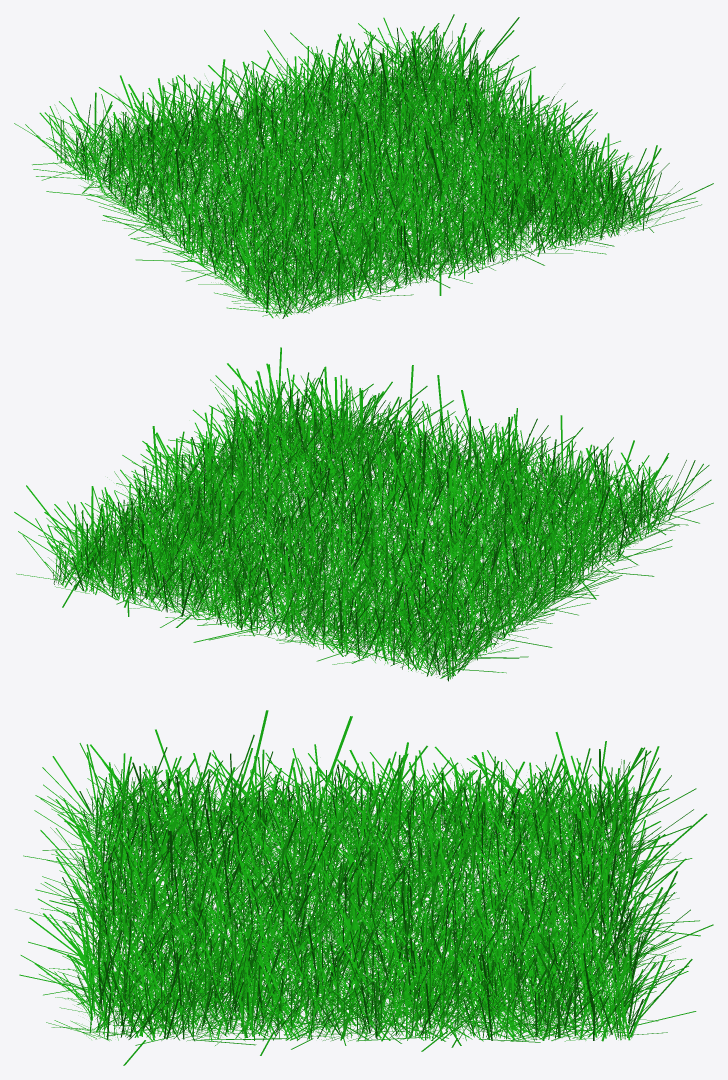
Rendered from 草big.fbx.
The picture shows the model from 3 angles, top to bottom: view 1: azimuth 30°, elevation 25°; view 2: azimuth 150°, elevation 25°; view 3: azimuth 270°, elevation 25°; orthographic projection. The views are drawn at different scales.
Visible parts, largest first — view 1: 平面.4614; view 2: 平面.4614; view 3: 平面.4614.
Boxes of the visible parts, box(x1,y1,x2,y2) form: 平面.4614: box(14, 14, 713, 318); 平面.4614: box(14, 347, 713, 681); 平面.4614: box(15, 710, 713, 1065).
Bounding box in the file's own units: 53002 × 7874 × 51539.
